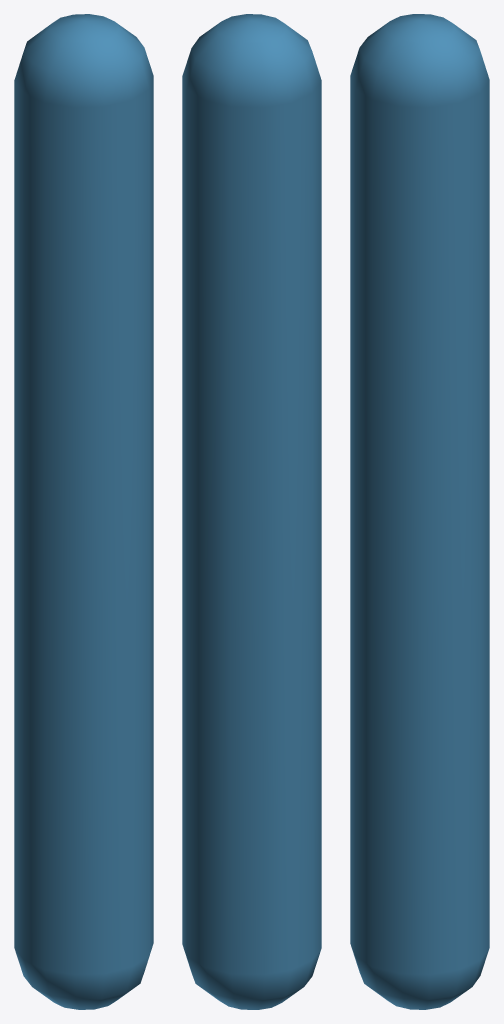
File: BlueTankUnDamaged.fbx
3 renders of one model, left to right at view 1: azimuth 30°, elevation 25°; view 2: azimuth 150°, elevation 25°; view 3: azimuth 330°, elevation 25°, orthographic.
Visible parts, largest first — view 1: UndamagedBlueTank; view 2: UndamagedBlueTank; view 3: UndamagedBlueTank.
Part boxes in pixels (x1=…): UndamagedBlueTank: x1=14, y1=14, x2=153, y2=1009; UndamagedBlueTank: x1=182, y1=14, x2=321, y2=1009; UndamagedBlueTank: x1=350, y1=14, x2=489, y2=1009.
Bounding box in the file's own units: 0.2322 × 1.81 × 0.2273.
